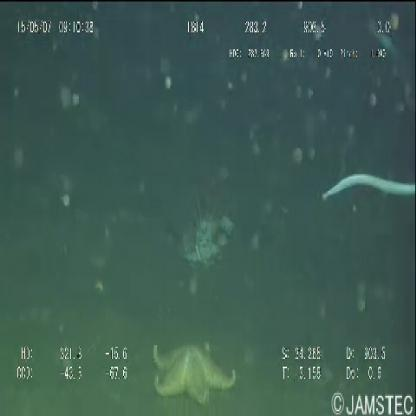Rác: (180, 216, 236, 267)
